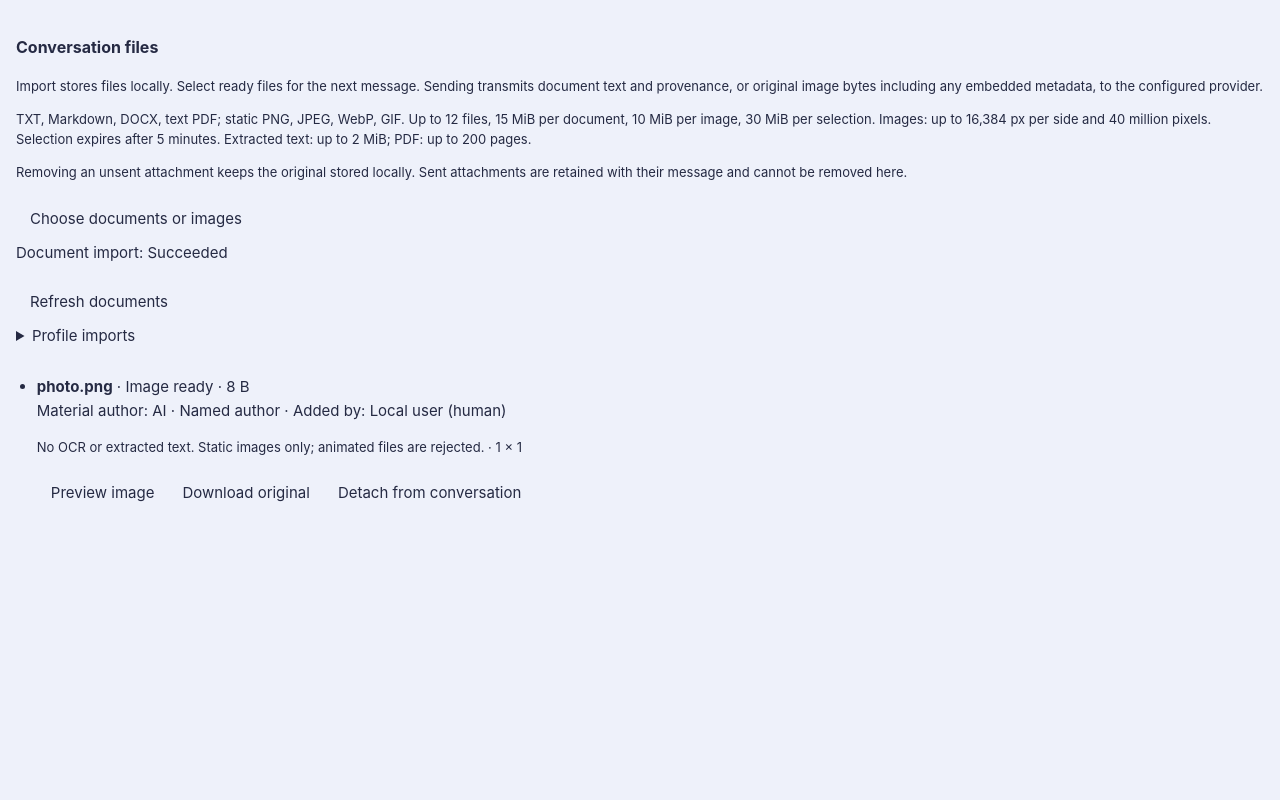
it: ready image uses original raster bytes for a local Blob preview with no OCR read and revokes on close
Click the button "Preview image" at (103, 493), box left=37, top=470, right=168, bottom=515
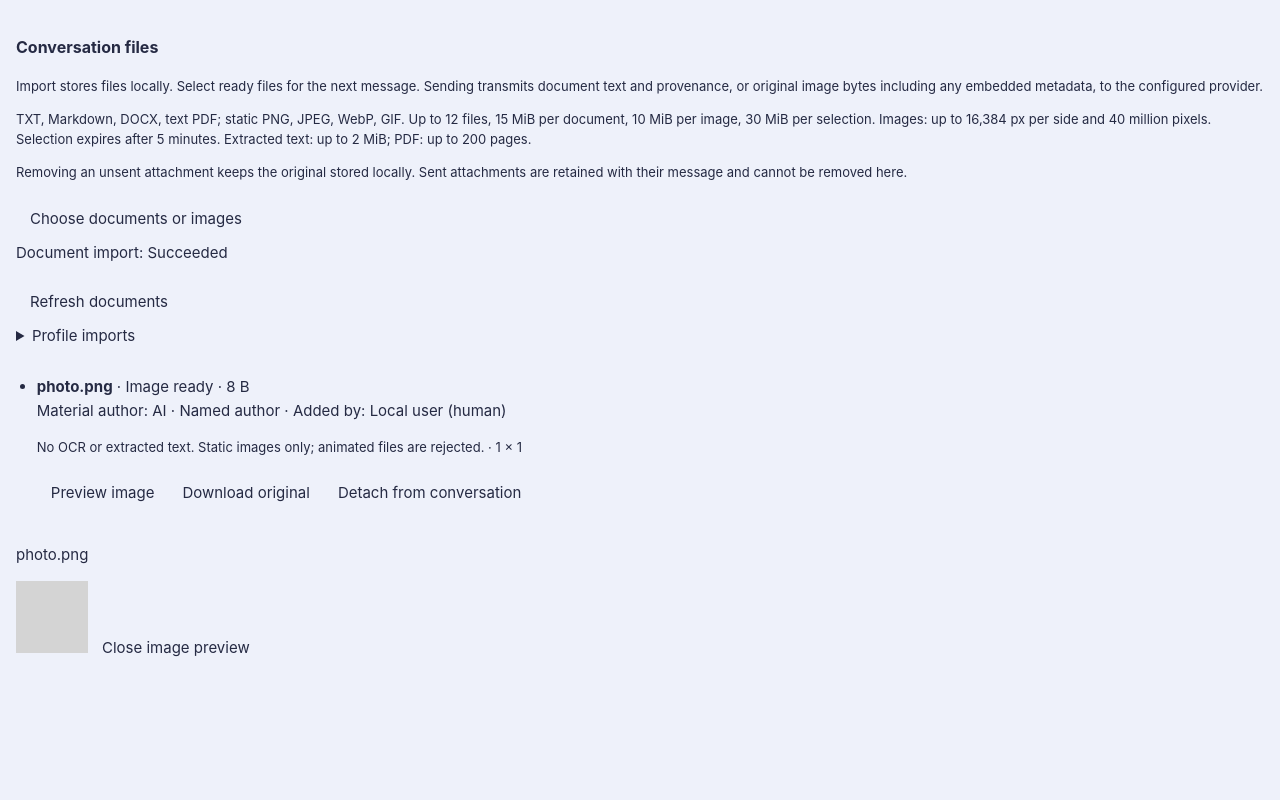
Click the button "Close image preview" at (176, 648), box left=88, top=625, right=264, bottom=671
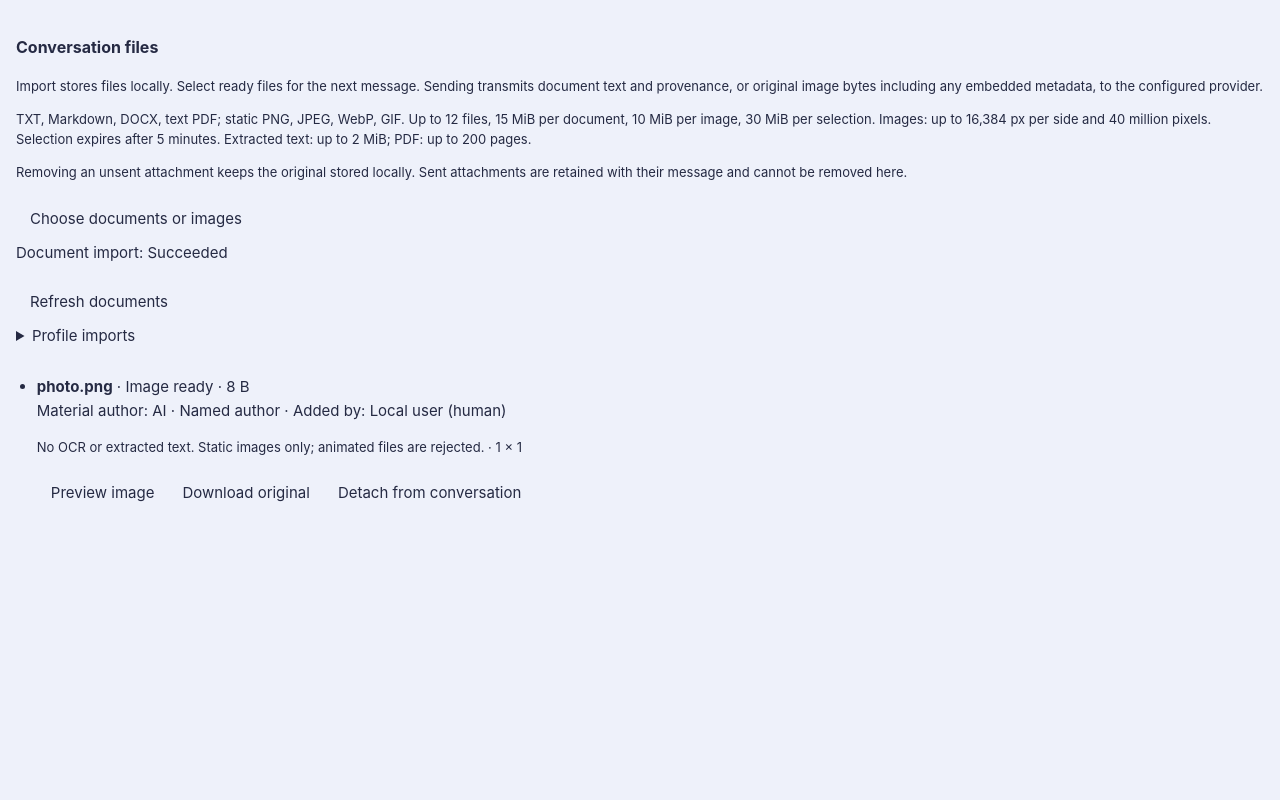
Check: the picture is gone
